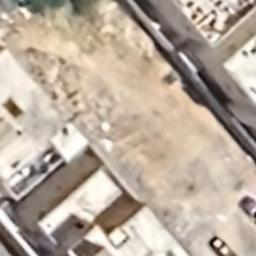sedan: (211, 236, 237, 256)
